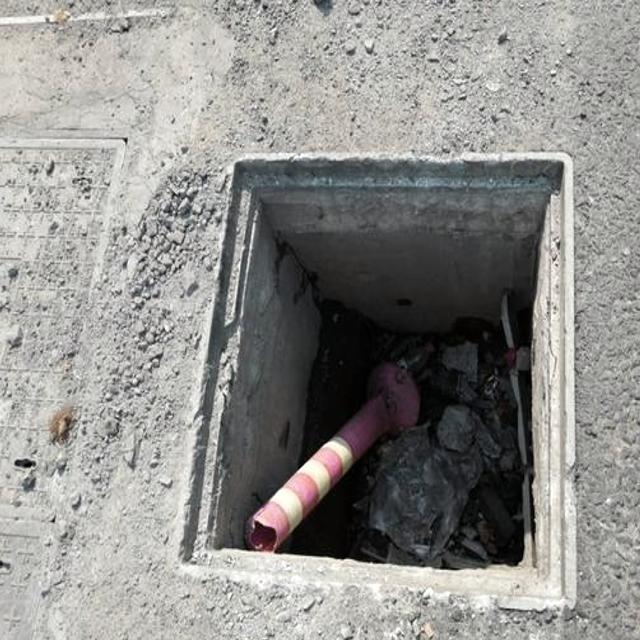lose: (165, 113, 611, 608)
